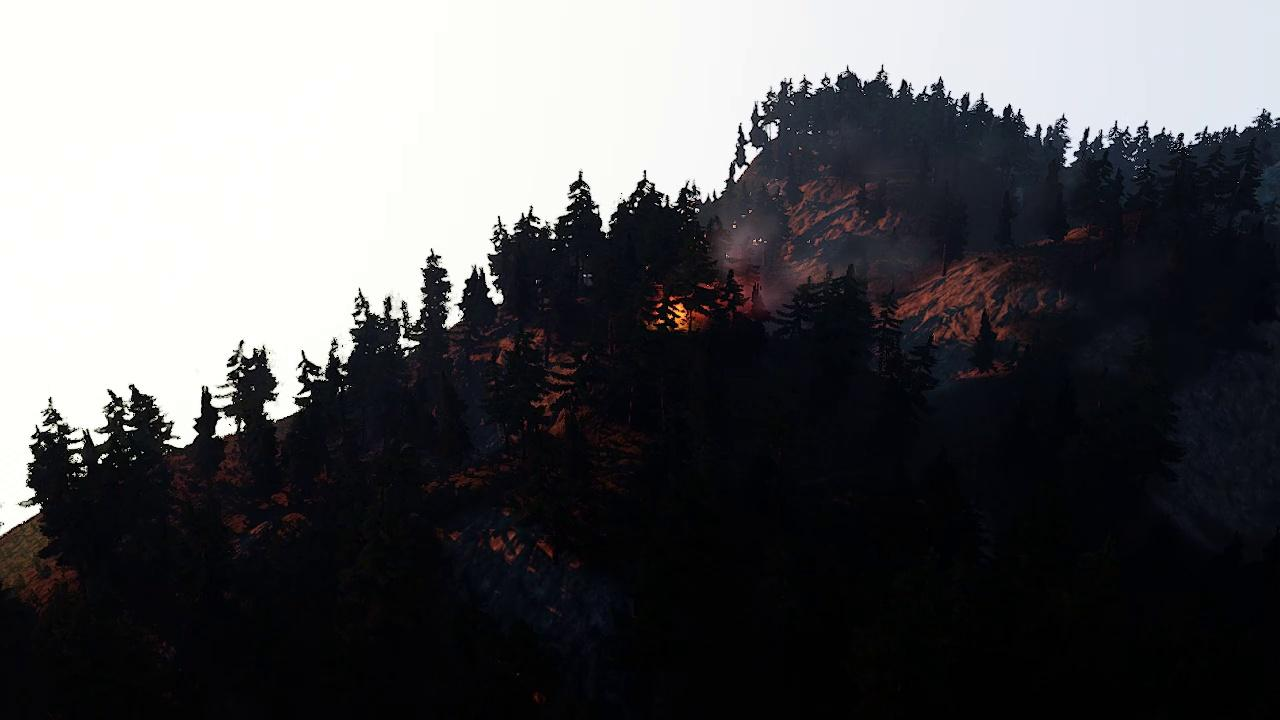fire: (658, 287, 694, 332)
smoke: (714, 143, 912, 309)
